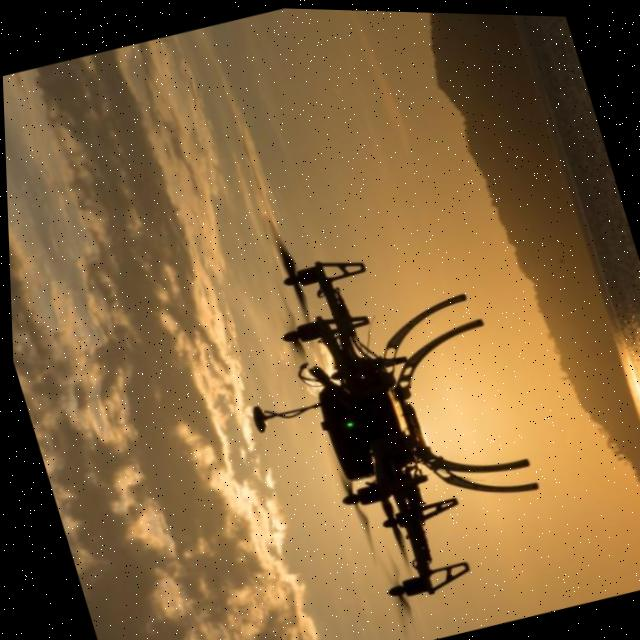drones: (194, 193, 573, 639)
